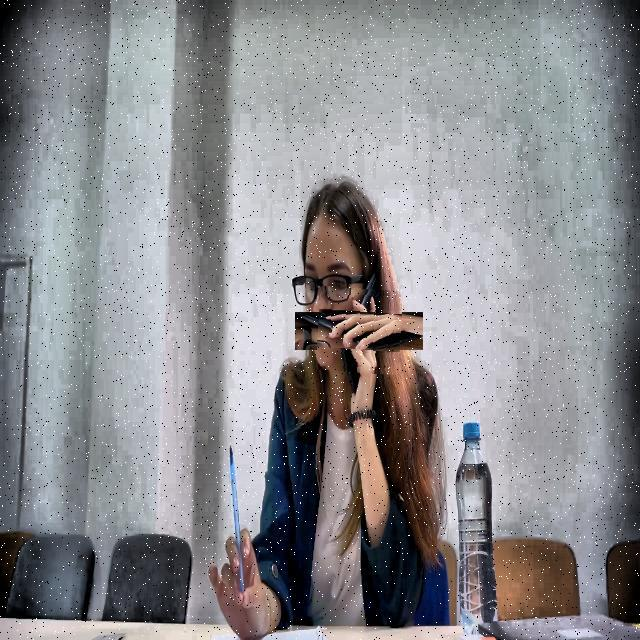Phone: (316, 288, 402, 374)
